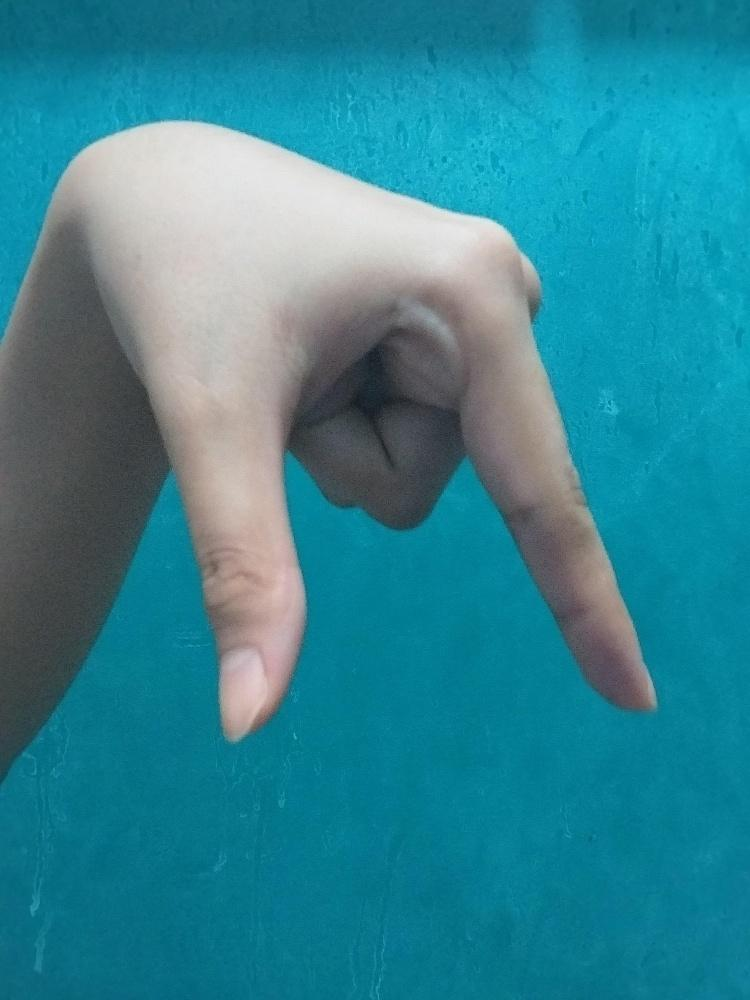q: (45, 111, 666, 753)
